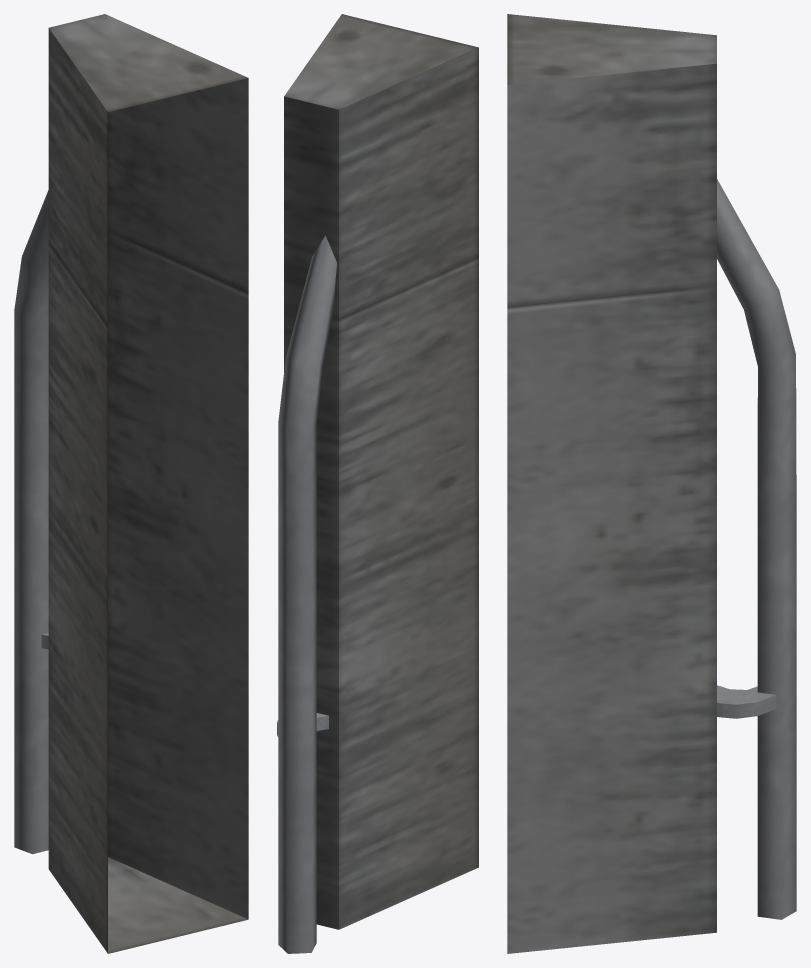
File: cpb-end-1.fbx
3 views of the same model, side by side, from view 1: azimuth 30°, elevation 25°; view 2: azimuth 150°, elevation 25°; view 3: azimuth 270°, elevation 25° (orthographic). The views are drawn at different scales.
Parts seen in each view (by area): view 1: cpb-end-1; view 2: cpb-end-1; view 3: cpb-end-1.
Part boxes in pixels (x1,y1,x2,y2): cpb-end-1: (14,14,248,953); cpb-end-1: (277,14,478,953); cpb-end-1: (507,14,796,953).
Bounding box in the file's own units: 70 × 400 × 121.
